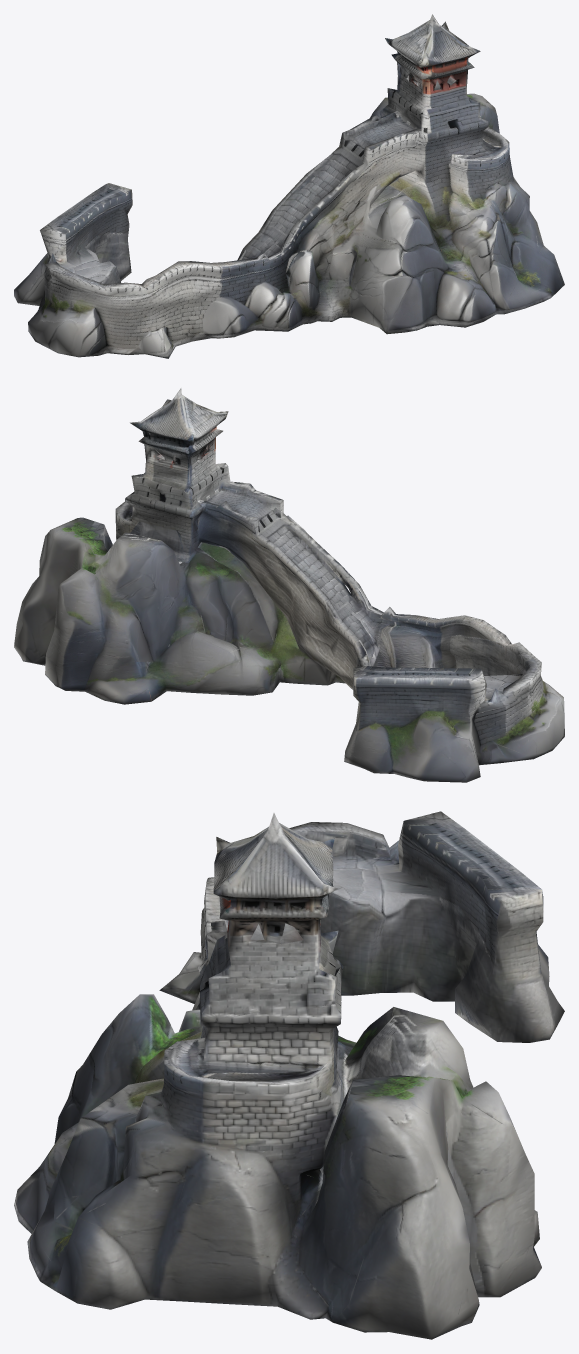
The model's file is great_wall.glb.
3 renders of one model, top to bottom at view 1: azimuth 30°, elevation 25°; view 2: azimuth 150°, elevation 25°; view 3: azimuth 270°, elevation 25°, orthographic. The views are drawn at different scales.
Size of the model in its own units: 2.01 by 0.9714 by 1.12.
1 material, 1 textured.
